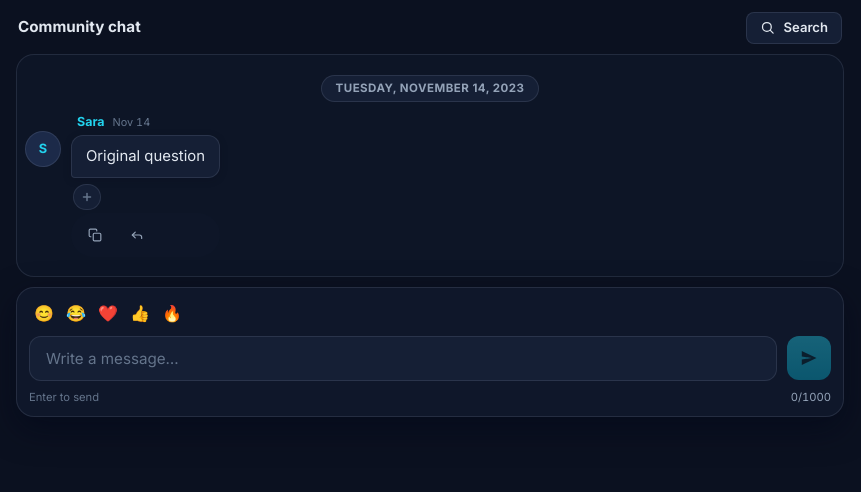
it: ChatRoom › replies › quotes the selected message when sending a reply
Click the button named "Reply to this message": [137, 235] box [117,215,157,255]
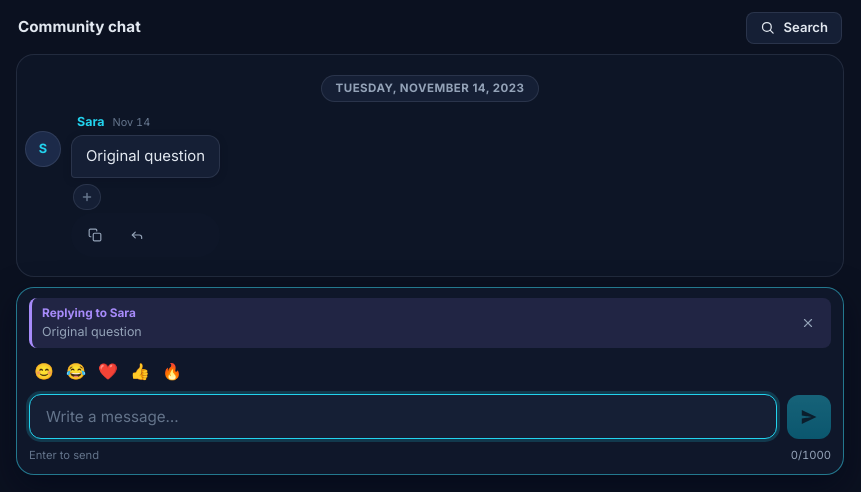
expect the text "Replying to Sara" is shown: met, box [42,306,136,320]
In the field labelled "message": [403, 417] box [29,394,777,439], type "An answer"
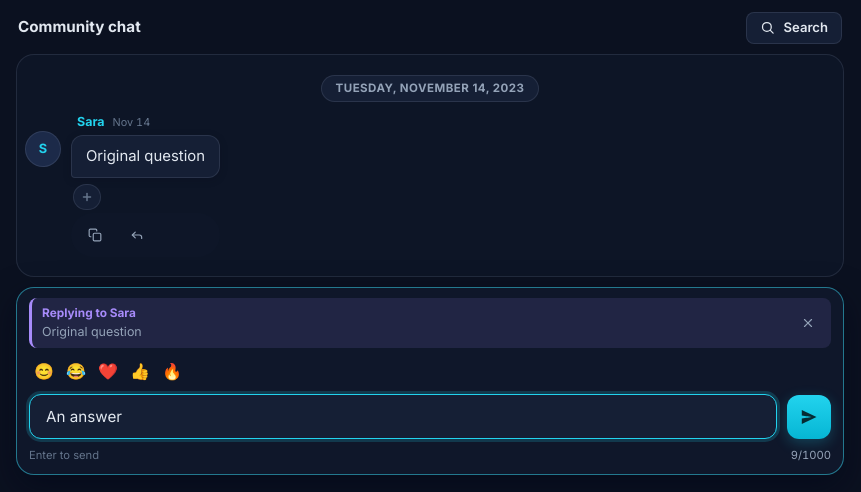
// sendMessage resolves asynchronously and clears the draft afterwards.
Click the button named "Send message": [809, 417] box [787,395,831,439]
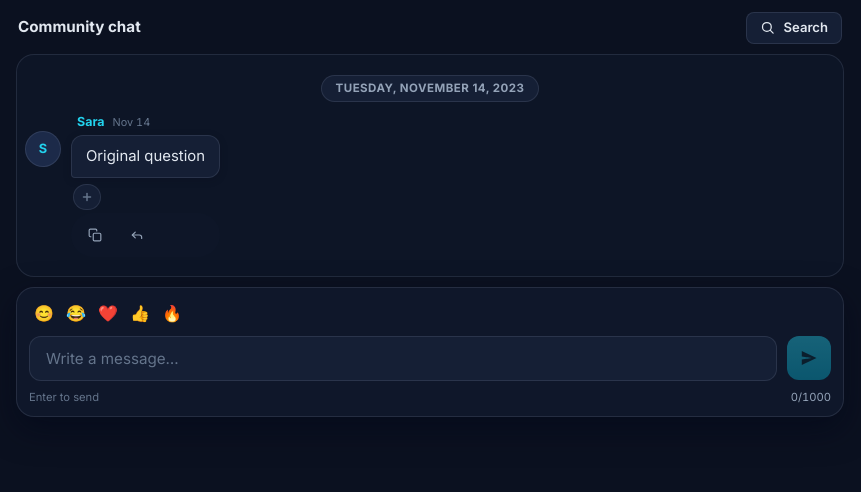
expect the text "Replying to Sara" is gone: met
